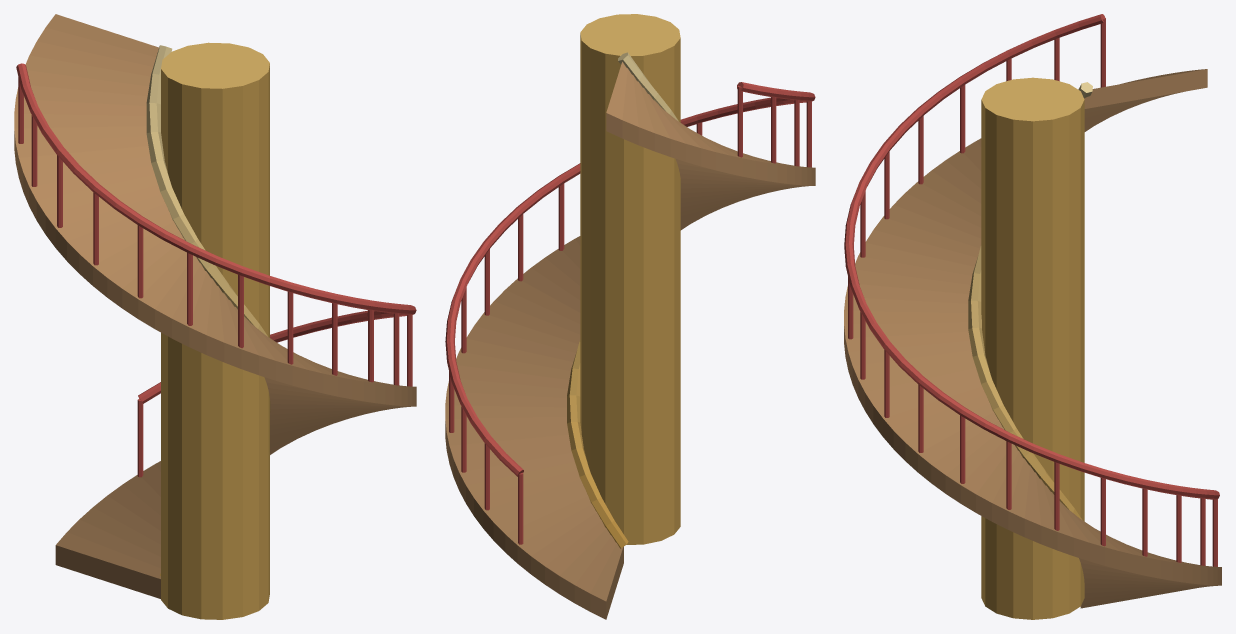
File: goo_jar_stair@winter.fbx
3 views of the same model, side by side, from view 1: azimuth 30°, elevation 25°; view 2: azimuth 150°, elevation 25°; view 3: azimuth 270°, elevation 25° (orthographic). The views are drawn at different scales.
Parts seen in each view (by area): view 1: goo_jar_stair; view 2: goo_jar_stair; view 3: goo_jar_stair.
Part boxes in pixels (x1,y1,x2,y2): goo_jar_stair: [14, 14, 416, 619]; goo_jar_stair: [445, 14, 815, 619]; goo_jar_stair: [844, 14, 1221, 619].
Size of the model in its own units: 10.99 by 17.03 by 10.99.
